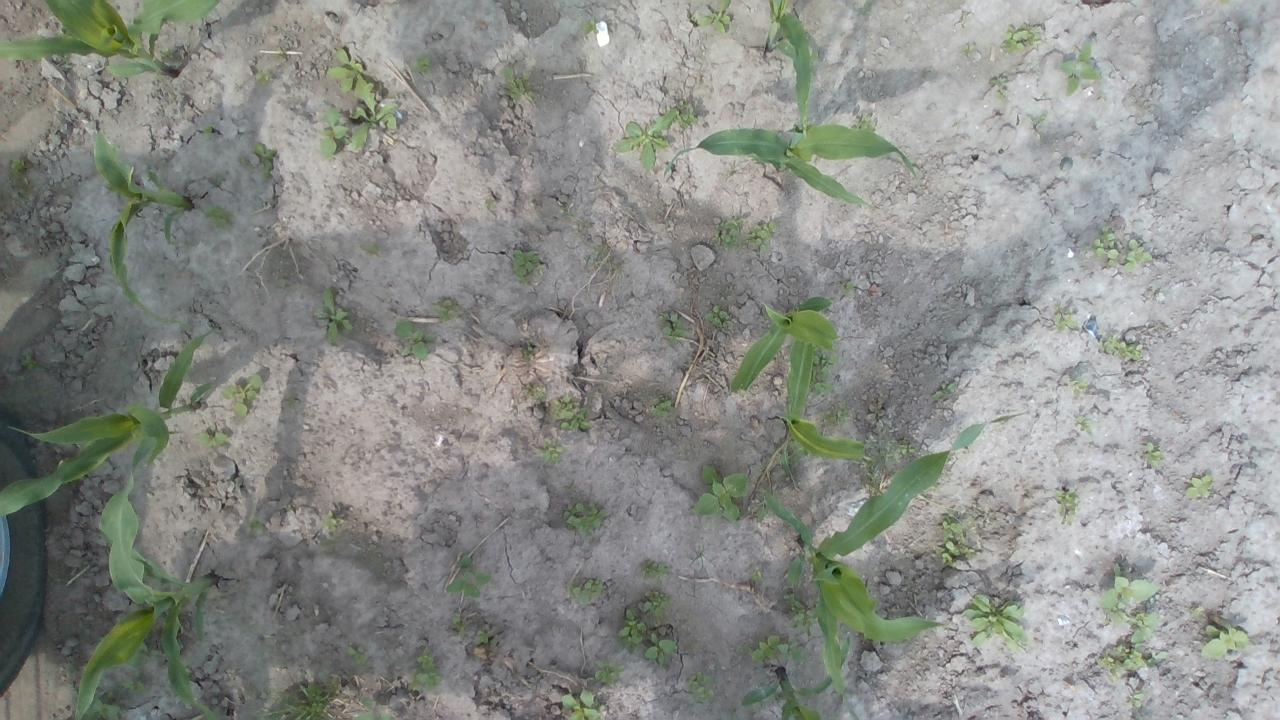Maize: (758, 408, 1034, 720), (71, 433, 232, 720), (0, 327, 223, 516), (666, 125, 920, 208), (92, 126, 193, 330), (0, 0, 226, 79), (779, 338, 874, 462), (731, 290, 838, 388), (738, 634, 857, 720), (762, 0, 818, 136)
Weeds: (615, 107, 680, 169), (962, 596, 1030, 654), (864, 428, 916, 498), (348, 82, 400, 150), (693, 464, 749, 522), (1100, 564, 1158, 608), (313, 288, 353, 345), (444, 556, 495, 600), (1062, 40, 1100, 96), (278, 682, 332, 720), (406, 645, 444, 696), (220, 372, 262, 418), (328, 48, 370, 93), (808, 342, 840, 398), (1201, 623, 1249, 659), (396, 320, 438, 360), (614, 608, 649, 656), (1099, 644, 1143, 682), (316, 109, 348, 159), (548, 394, 590, 432), (564, 501, 609, 535), (1084, 224, 1118, 267), (784, 593, 818, 636), (562, 689, 605, 720), (692, 0, 732, 33), (500, 66, 536, 102), (106, 668, 151, 696), (510, 249, 546, 284), (567, 576, 605, 608), (1126, 609, 1160, 643), (1104, 332, 1141, 362), (1001, 24, 1040, 52), (125, 639, 162, 668), (351, 697, 397, 720), (686, 670, 716, 704), (936, 539, 975, 565), (80, 697, 124, 720), (644, 633, 676, 664), (779, 438, 808, 472), (712, 218, 744, 248), (658, 311, 688, 343), (254, 141, 278, 180), (643, 590, 675, 619), (1055, 486, 1078, 526), (593, 660, 628, 686), (1124, 239, 1152, 270), (745, 222, 776, 250), (820, 401, 854, 426), (198, 425, 232, 450), (204, 204, 236, 230), (642, 560, 671, 587), (1142, 440, 1166, 472), (704, 305, 736, 329), (777, 639, 806, 664), (1052, 304, 1078, 330), (1185, 474, 1213, 498), (10, 156, 28, 193), (752, 635, 778, 660), (433, 298, 460, 322), (542, 436, 564, 464), (677, 100, 699, 127), (941, 515, 963, 540), (989, 76, 1009, 103), (583, 244, 608, 264), (320, 510, 342, 532), (1074, 415, 1098, 435), (347, 644, 369, 665), (932, 382, 956, 401), (651, 397, 672, 418), (1106, 606, 1128, 626), (522, 384, 548, 400), (582, 18, 602, 38), (854, 114, 876, 132), (757, 494, 771, 522), (412, 56, 435, 73), (452, 611, 466, 638), (1067, 378, 1087, 396), (56, 24, 76, 41), (1146, 650, 1167, 666), (254, 68, 272, 86), (248, 711, 284, 720), (475, 630, 497, 644), (1128, 692, 1144, 710), (359, 243, 382, 255), (247, 517, 264, 533), (736, 641, 754, 656), (22, 354, 38, 370), (839, 281, 856, 296), (284, 391, 298, 409), (64, 658, 78, 675), (1190, 604, 1207, 618), (962, 42, 978, 56), (484, 194, 496, 212), (524, 344, 536, 362), (158, 48, 174, 61), (1028, 114, 1046, 125), (749, 566, 763, 580), (858, 2, 872, 14), (204, 124, 216, 136), (274, 48, 286, 59), (771, 690, 781, 700), (153, 71, 163, 80), (563, 210, 573, 218), (214, 176, 223, 184), (786, 356, 791, 364)
